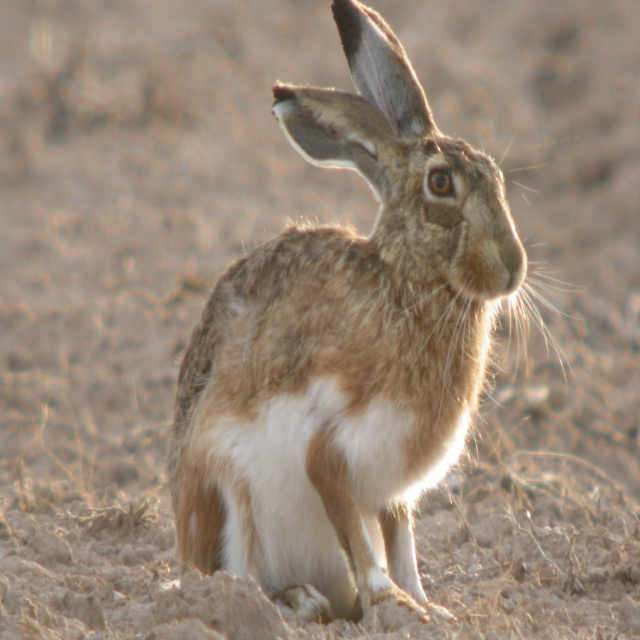Rabbit: (160, 0, 593, 621)
